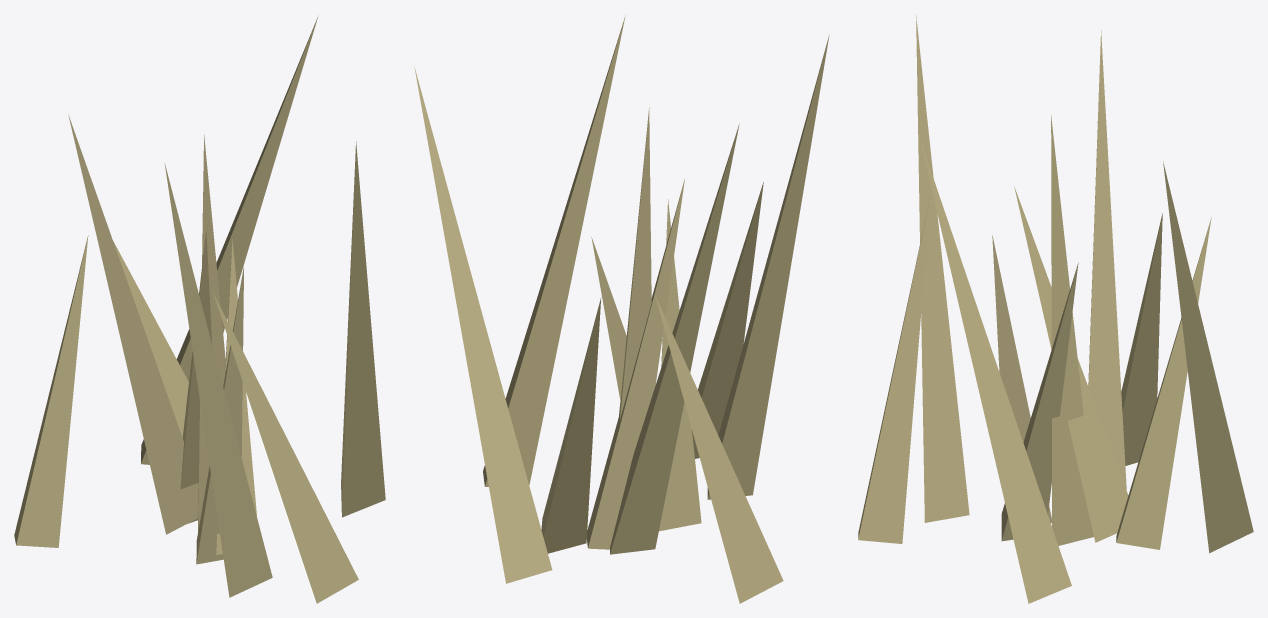
The model's file is grass_dry.glb.
The picture shows the model from 3 angles, left to right: view 1: azimuth 30°, elevation 25°; view 2: azimuth 150°, elevation 25°; view 3: azimuth 270°, elevation 25°; orthographic projection. The views are drawn at different scales.
Parts seen in each view (by area): view 1: Grass_Dry; view 2: Grass_Dry; view 3: Grass_Dry.
Part boxes in pixels (box(x1,y1,x2,y2)): Grass_Dry: box(14, 16, 385, 603); Grass_Dry: box(414, 15, 829, 603); Grass_Dry: box(858, 15, 1253, 603).
Bounding box in the file's own units: 0.3861 × 0.5142 × 0.3969.
